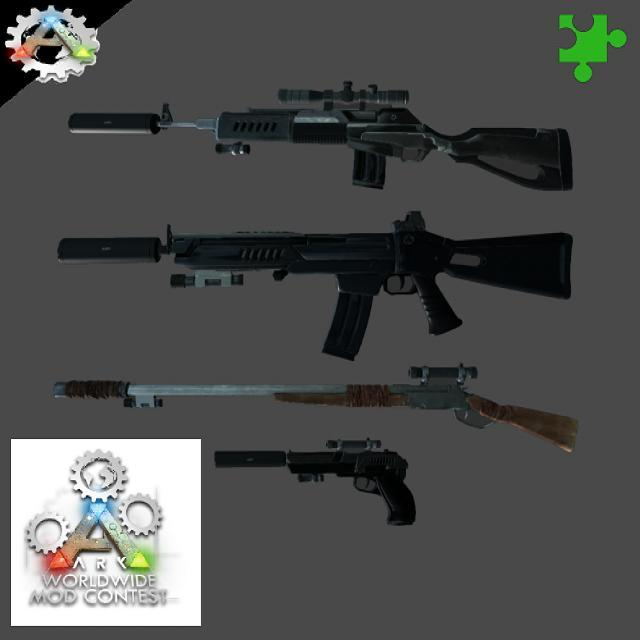weapon: (53, 210, 578, 360), (67, 74, 575, 198), (211, 430, 419, 540)
